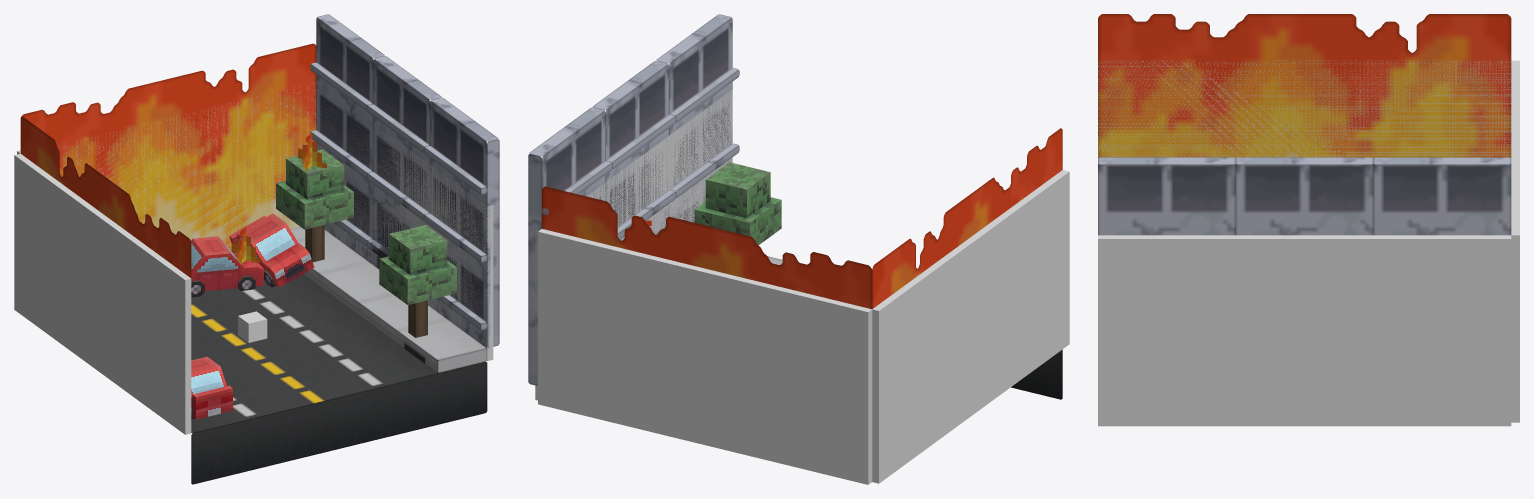
The model's file is cornerl.fbx.
3 renders of one model, left to right at view 1: azimuth 30°, elevation 25°; view 2: azimuth 150°, elevation 25°; view 3: azimuth 270°, elevation 25°, orthographic. The views are drawn at different scales.
Visible parts, largest first — view 1: floormain, cube_4, cube_7, building_3, cube_6, building, building_2, cube_3, tree, tree_1, cube_8, carmain (+6 smaller); view 2: cube_8, cube_7, cube_4, cube_6, building_3, cube_3, building_2, building, tree, builing-ledges_2, builing-ledges_1, floormain (+1 smaller); view 3: cube_6, cube_3, cube_7, building, building_2, building_3, cube_8.
Boxes of the visible parts, x1,y1,x2,y2 form: floormain: (191, 227, 487, 484); cube_4: (22, 43, 316, 250); cube_7: (14, 153, 191, 434); building_3: (430, 97, 499, 347); cube_6: (319, 90, 493, 361); building: (316, 14, 384, 264); building_2: (373, 56, 441, 305); cube_3: (20, 116, 191, 277); tree: (379, 225, 456, 337); tree_1: (276, 149, 353, 262); cube_8: (17, 82, 315, 248); carmain: (229, 213, 314, 287); cube_8: (538, 229, 872, 484); cube_7: (872, 170, 1069, 483); cube_4: (542, 186, 872, 309); cube_6: (535, 89, 732, 400); building_3: (656, 14, 732, 222); cube_3: (872, 128, 1062, 308); building_2: (593, 61, 668, 240); building: (528, 107, 605, 385); tree: (694, 162, 781, 245); builing-ledges_2: (670, 68, 739, 197); builing-ledges_1: (606, 114, 675, 239); floormain: (767, 256, 1062, 399); cube_6: (1098, 235, 1511, 426); cube_3: (1098, 14, 1511, 157); cube_7: (1098, 60, 1511, 157); building: (1373, 157, 1511, 235); building_2: (1236, 157, 1373, 235); building_3: (1098, 157, 1235, 235); cube_8: (1511, 60, 1519, 422).
Bounding box in the file's own units: 319 × 262 × 306.
Materials: 7 (7 with a texture image).
